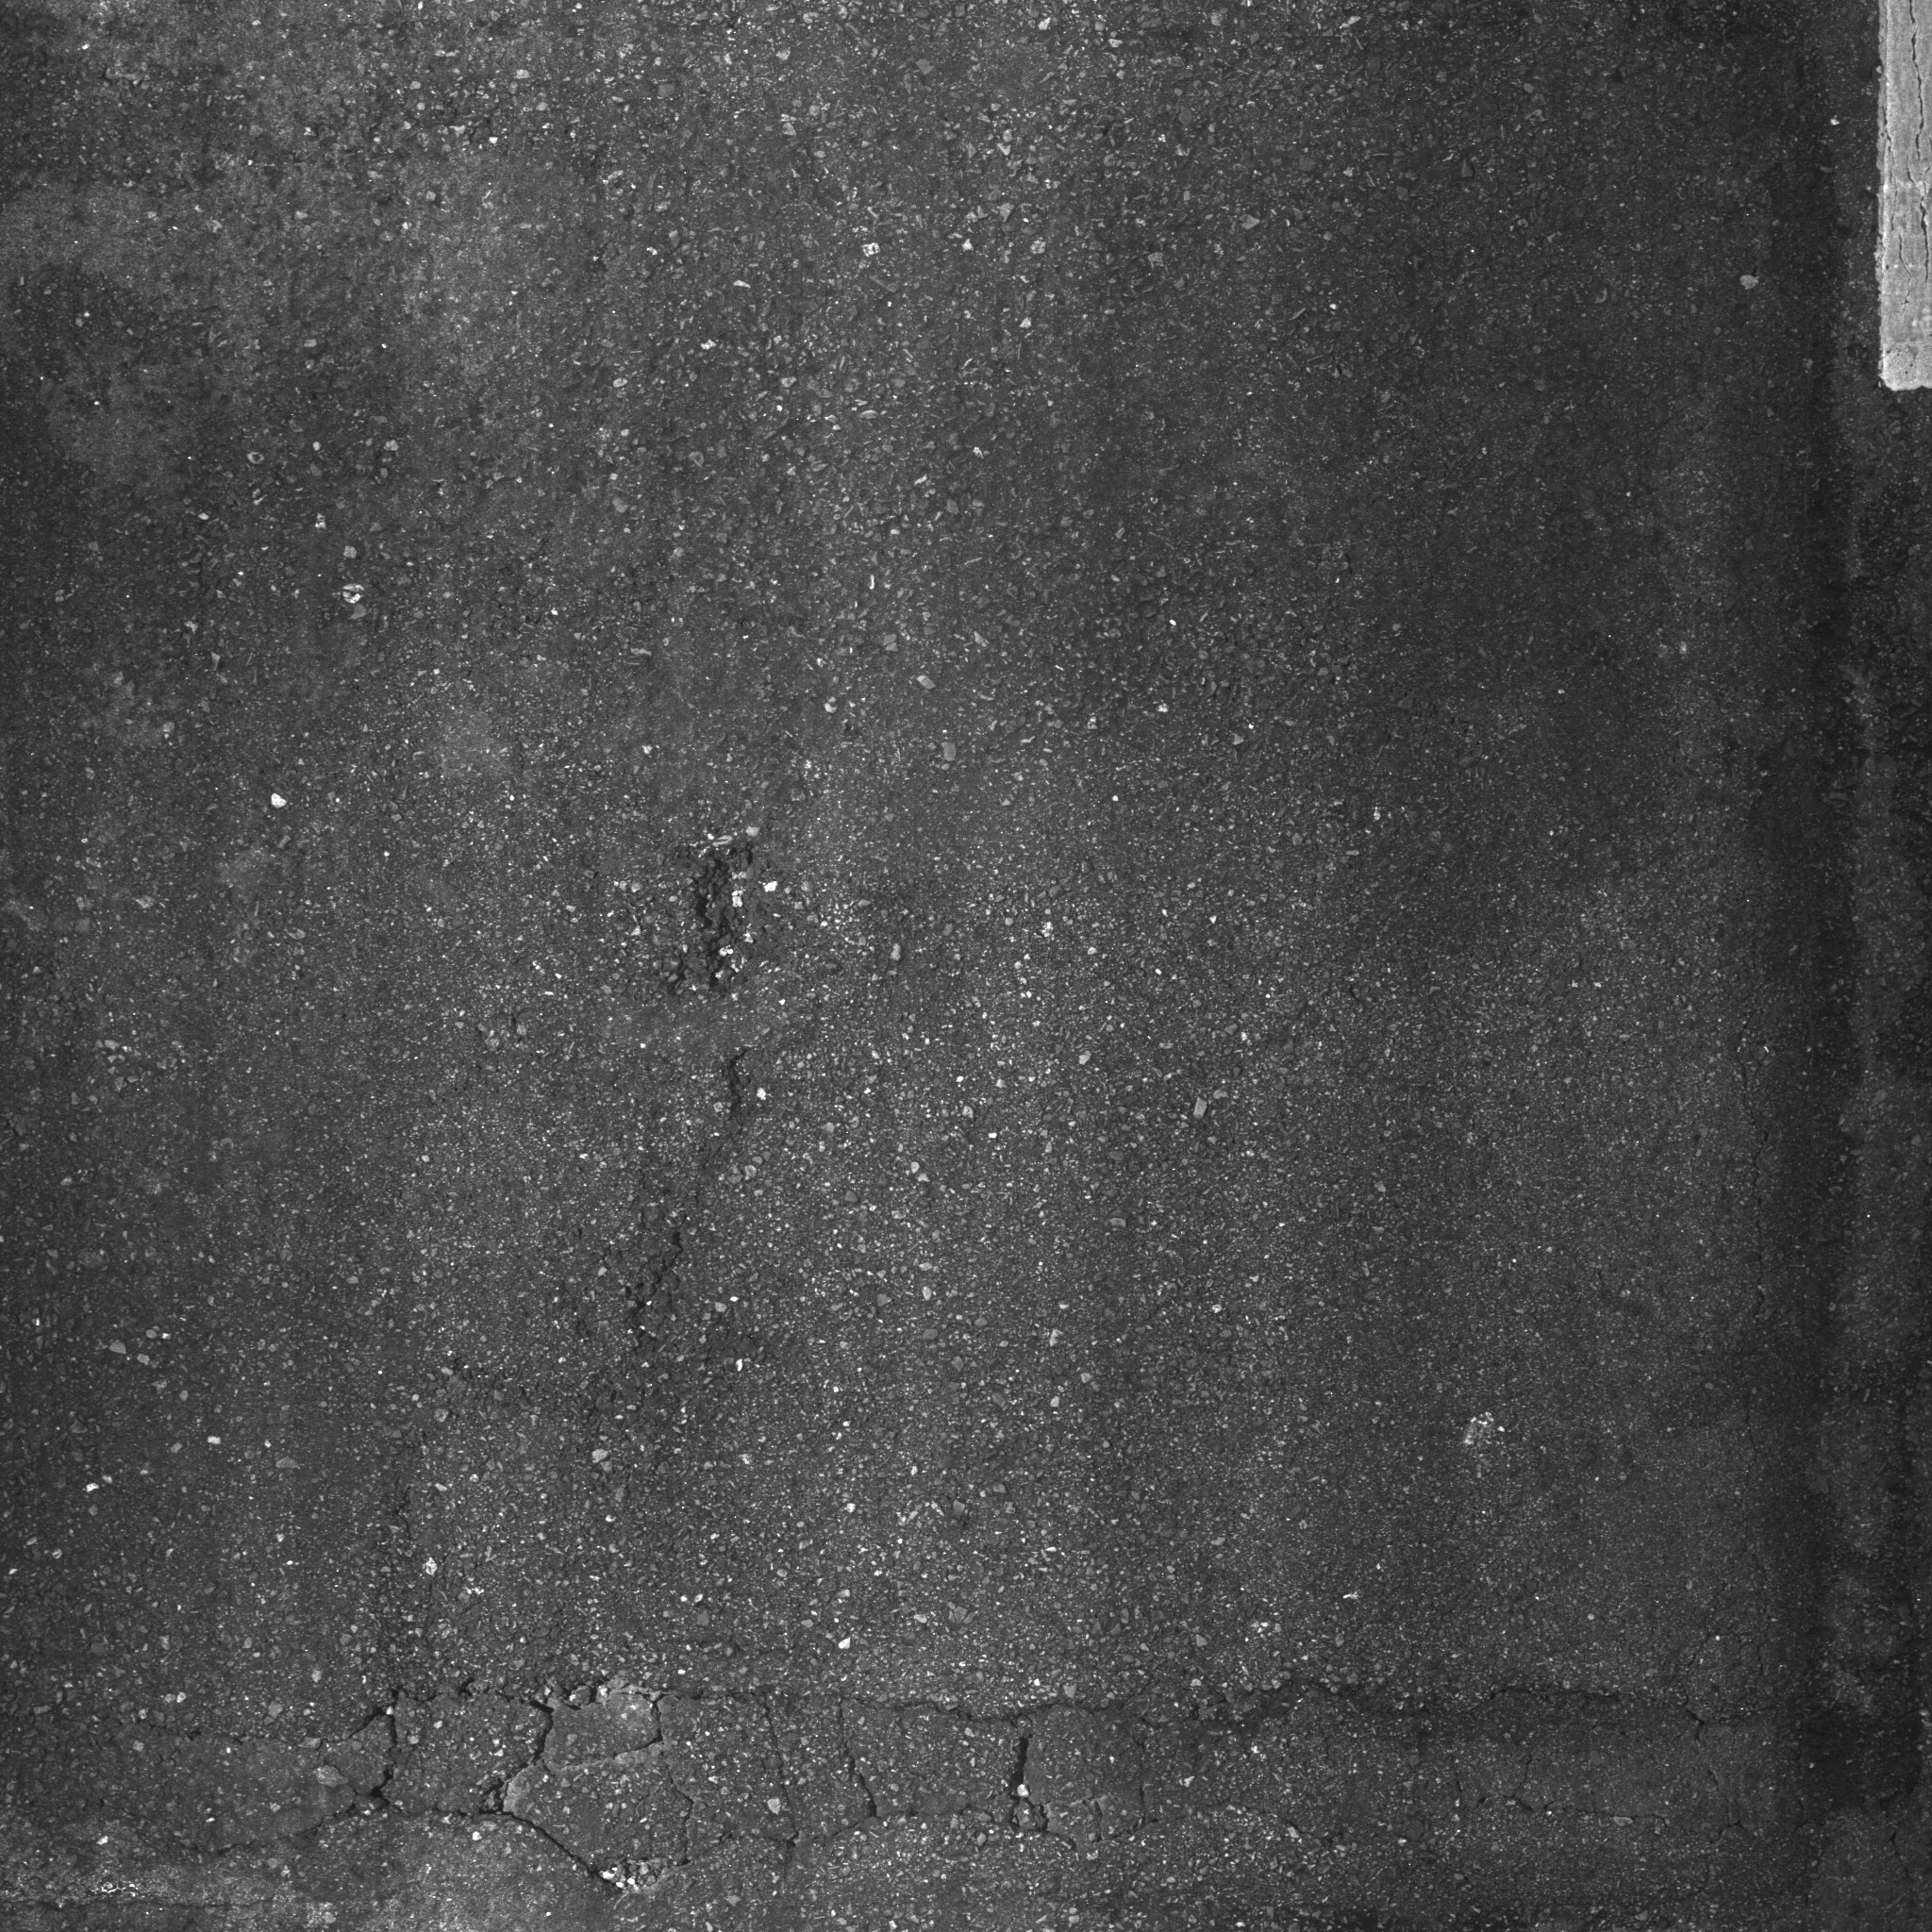alligator: (88, 1465, 1796, 1932)
